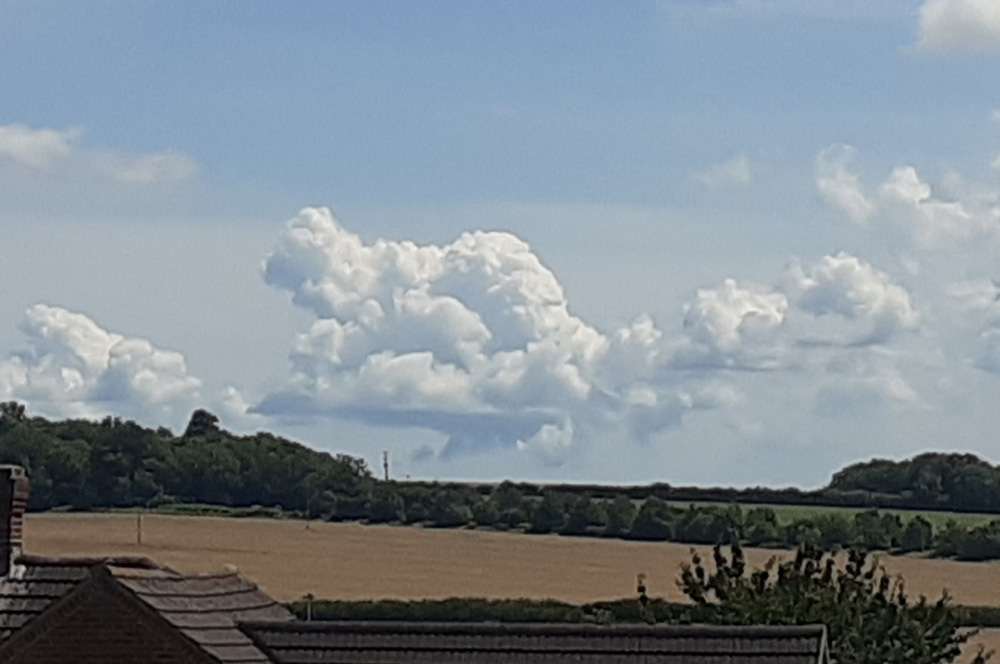Cumulus: (254, 192, 628, 453), (660, 216, 923, 402), (2, 285, 260, 437)
